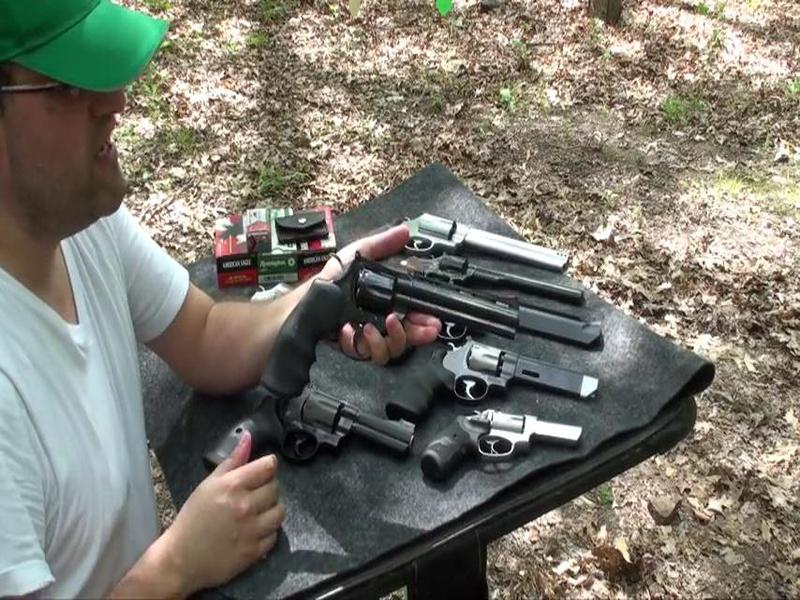Revolver: (275, 249, 526, 401)
